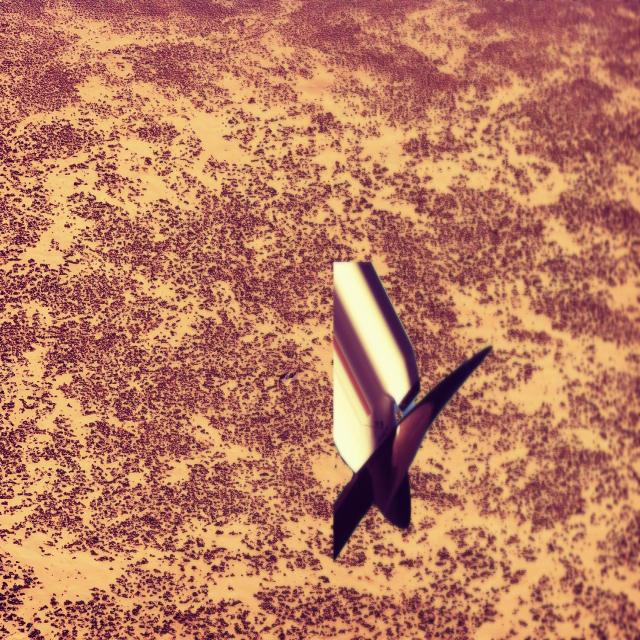airplane: (331, 258, 492, 562)
